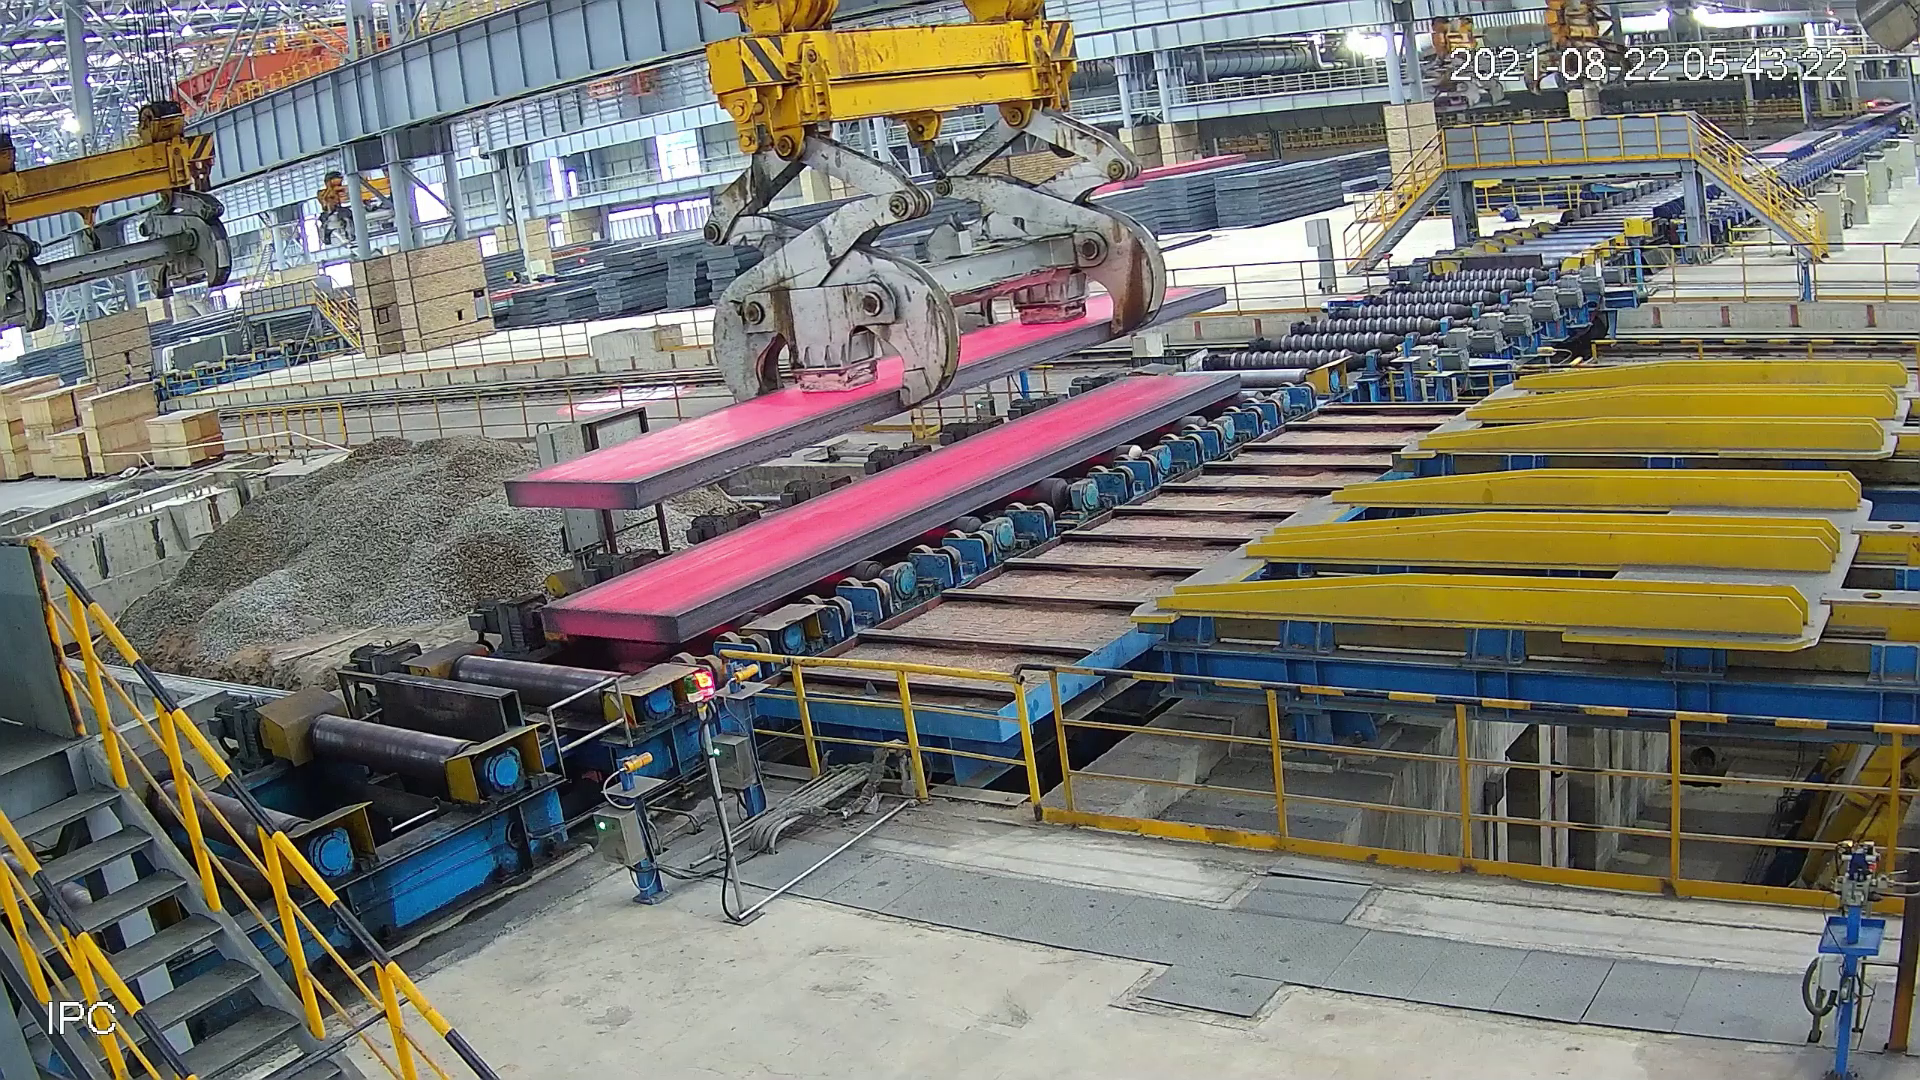crane: (1513, 3, 1635, 99)
craneandslab: (492, 11, 1265, 520)
slab: (537, 363, 1247, 655)
